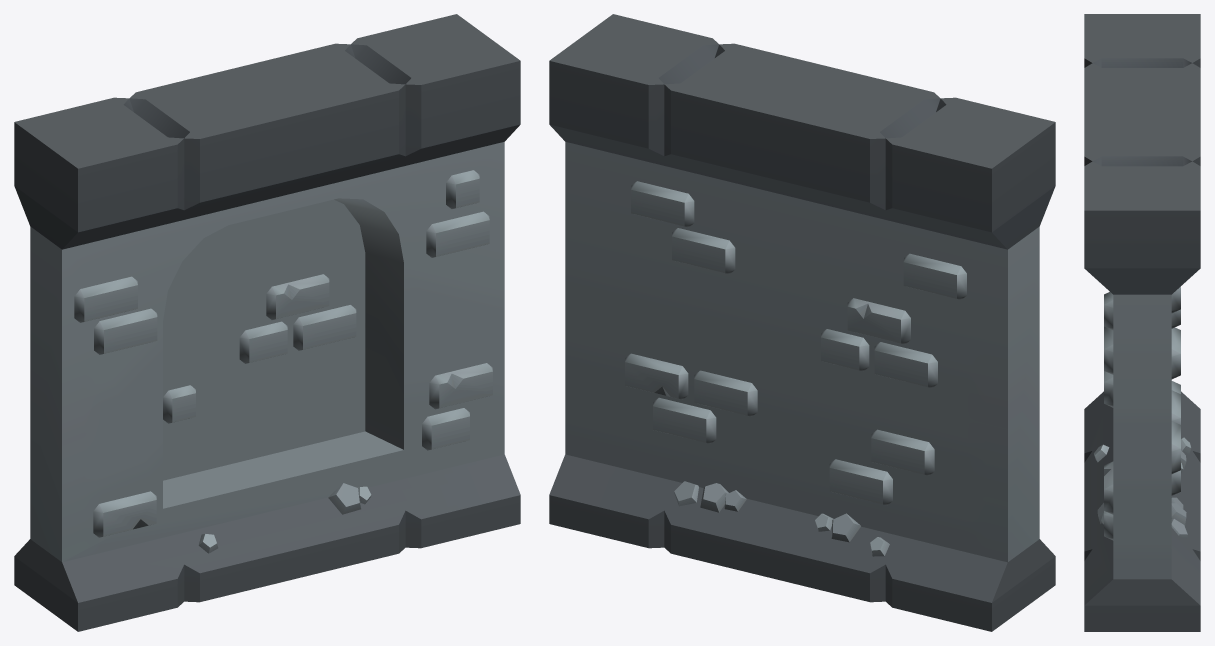
File: wall_inset.glb
3 views of the same model, side by side, from view 1: azimuth 30°, elevation 25°; view 2: azimuth 150°, elevation 25°; view 3: azimuth 270°, elevation 25° (orthographic). The views are drawn at different scales.
Visible parts, largest first — view 1: wall_inset; view 2: wall_inset; view 3: wall_inset.
Boxes of the visible parts, x1,y1,x2,y2 form: wall_inset: (14, 14, 520, 631); wall_inset: (549, 14, 1055, 631); wall_inset: (1084, 14, 1200, 631).
Bounding box in the file's own units: 4 × 4 × 1.
Materials: 1 (1 with a texture image).
